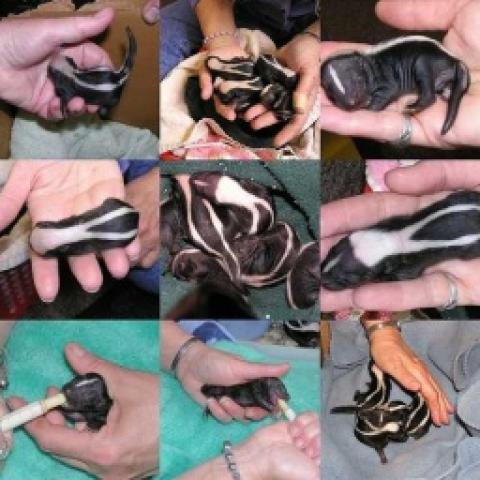small_animal: (322, 184, 480, 294), (318, 32, 475, 115), (49, 23, 143, 122), (24, 194, 142, 258), (194, 168, 283, 238), (349, 391, 437, 460), (199, 373, 295, 420), (60, 372, 119, 440), (328, 359, 392, 416), (257, 51, 304, 90), (214, 76, 264, 103), (208, 53, 256, 81)
